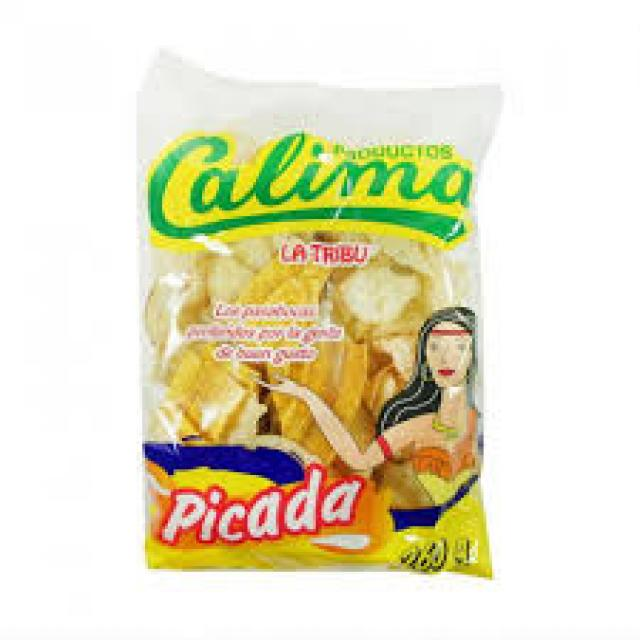Paquete: (131, 23, 509, 586)
